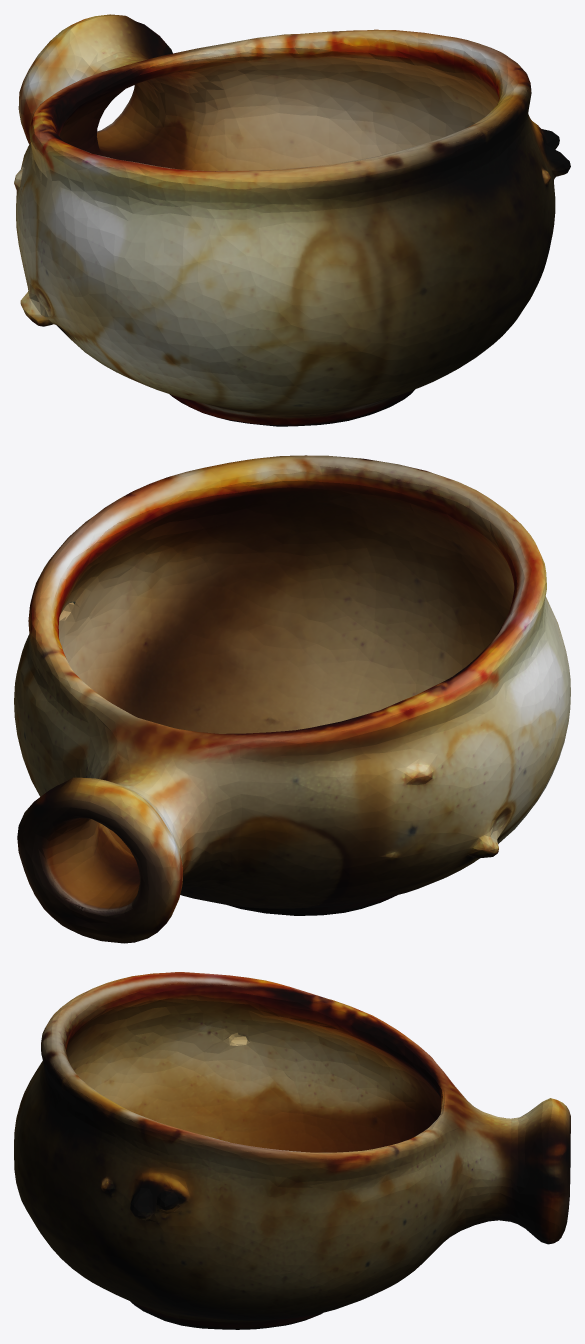
The model's file is ceramic-kitchen-gadget-used-rustic-worn.jpeg.glb.
3 views of the same model, one above another, from view 1: azimuth 30°, elevation 25°; view 2: azimuth 150°, elevation 25°; view 3: azimuth 270°, elevation 25° (orthographic). The views are drawn at different scales.
Visible parts, largest first — view 1: world; view 2: world; view 3: world.
Part boxes in pixels (box(x1,y1,x2,y2)): world: box(14, 14, 570, 426); world: box(14, 455, 570, 943); world: box(14, 972, 570, 1329).
Size of the model in its own units: 0.8061 by 0.492 by 1.
Materials: 1 (1 with a texture image).
